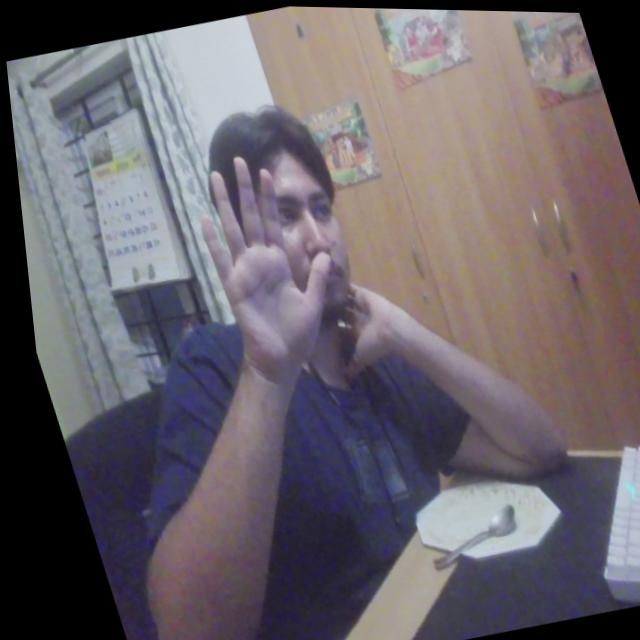hello: (174, 138, 360, 386)
